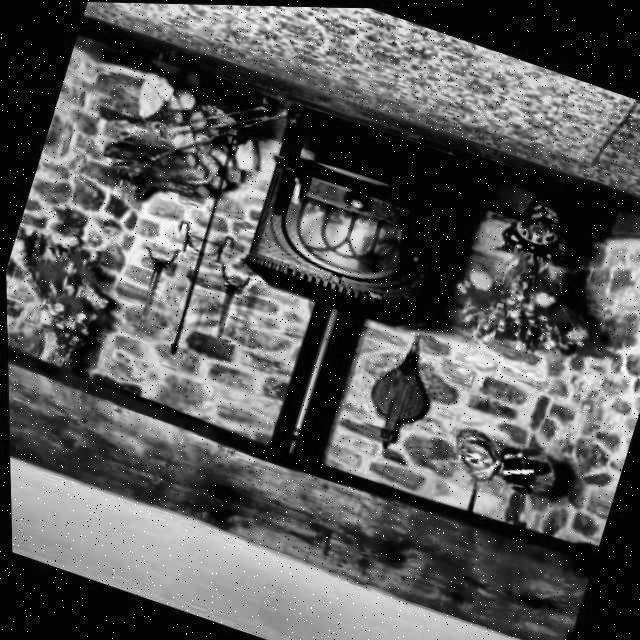Fire: (279, 194, 382, 278)
